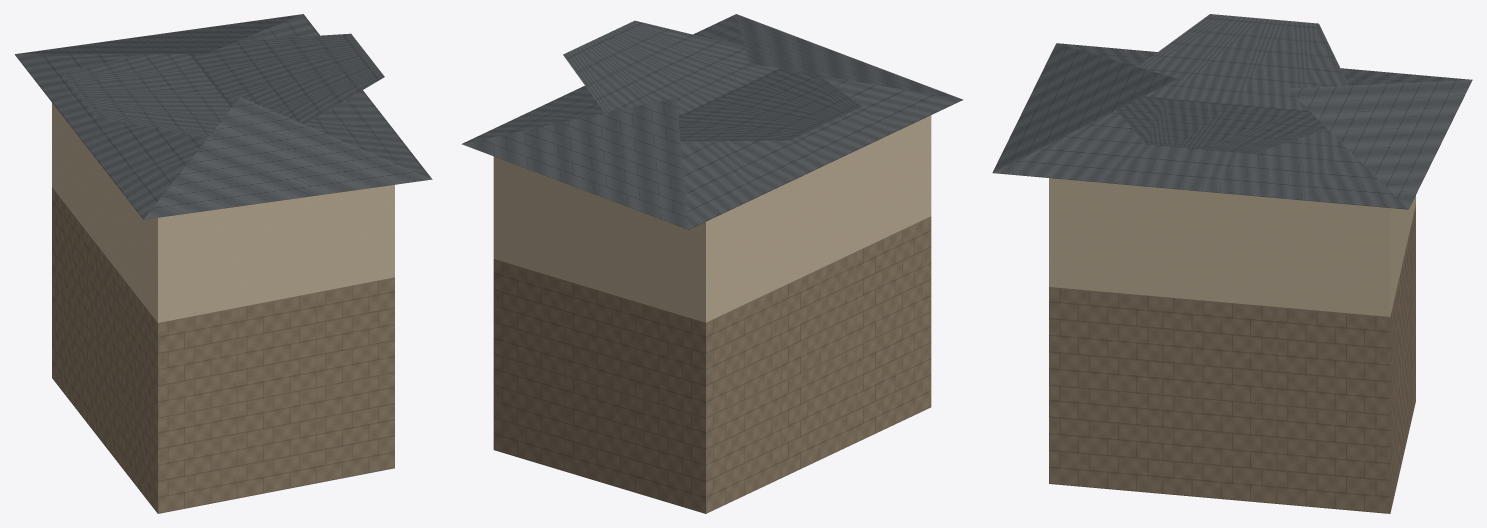
Rendered from bld_c-40_-38_832.gltf.
3 views of the same model, side by side, from view 1: azimuth 30°, elevation 25°; view 2: azimuth 150°, elevation 25°; view 3: azimuth 270°, elevation 25° (orthographic). The views are drawn at different scales.
Visible parts, largest first — view 1: bld_c-40_-38_832; view 2: bld_c-40_-38_832; view 3: bld_c-40_-38_832.
Part boxes in pixels (bbox=[...]): bld_c-40_-38_832: bbox=[15, 14, 432, 513]; bld_c-40_-38_832: bbox=[461, 14, 963, 513]; bld_c-40_-38_832: bbox=[992, 14, 1472, 513].
Size of the model in its own units: 8.37 by 8.4 by 10.2.
Materials: 3 (3 with a texture image).
